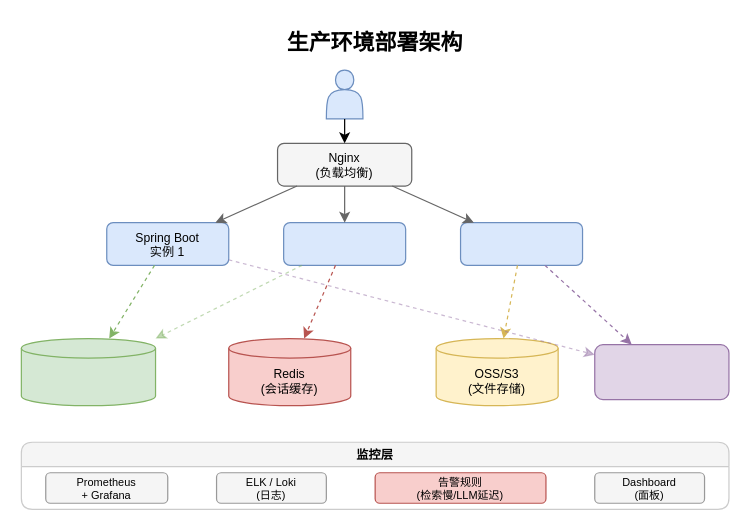
Image size: 750x531. Some labels were removed from this diagram. The shapes that lost their labels are listed below. From the top down, each one's centre as x and y in pixels, then its label:
the point at 344,94: 用户
the point at 344,243: Spring Boot 实例 2
the point at 521,243: Spring Boot 实例 3
the point at 88,371: Milvus (向量数据库)
the point at 661,371: LLM API (智谱/OpenAI)
